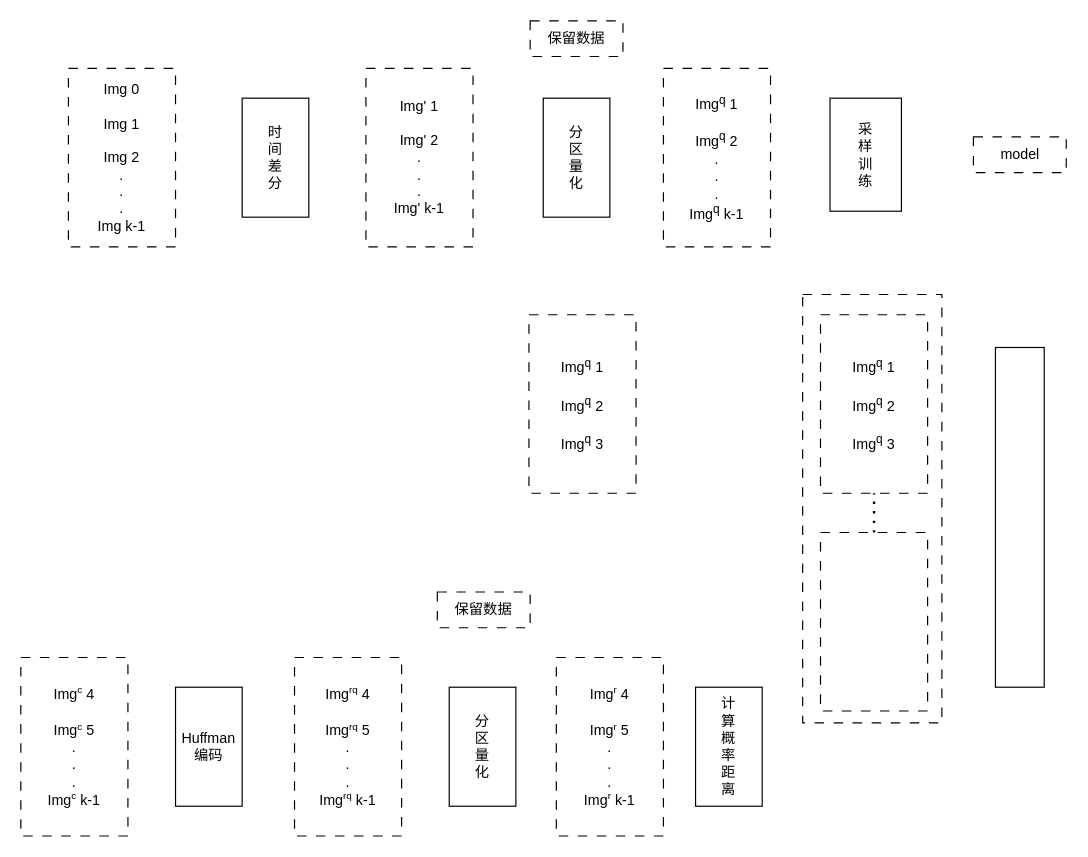
Image size: 1088x857. Some labels were removed from this diagram. Here are the shapes that lost their labels. From the top down, the box of each, then its label:
(994, 346, 1044, 687): 模 型 预 测
(819, 531, 928, 711): Img q k-3 Img q k-2 Img q k-1
